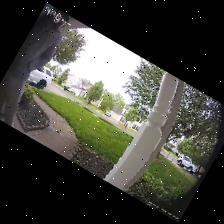person: (0, 9, 70, 125)
